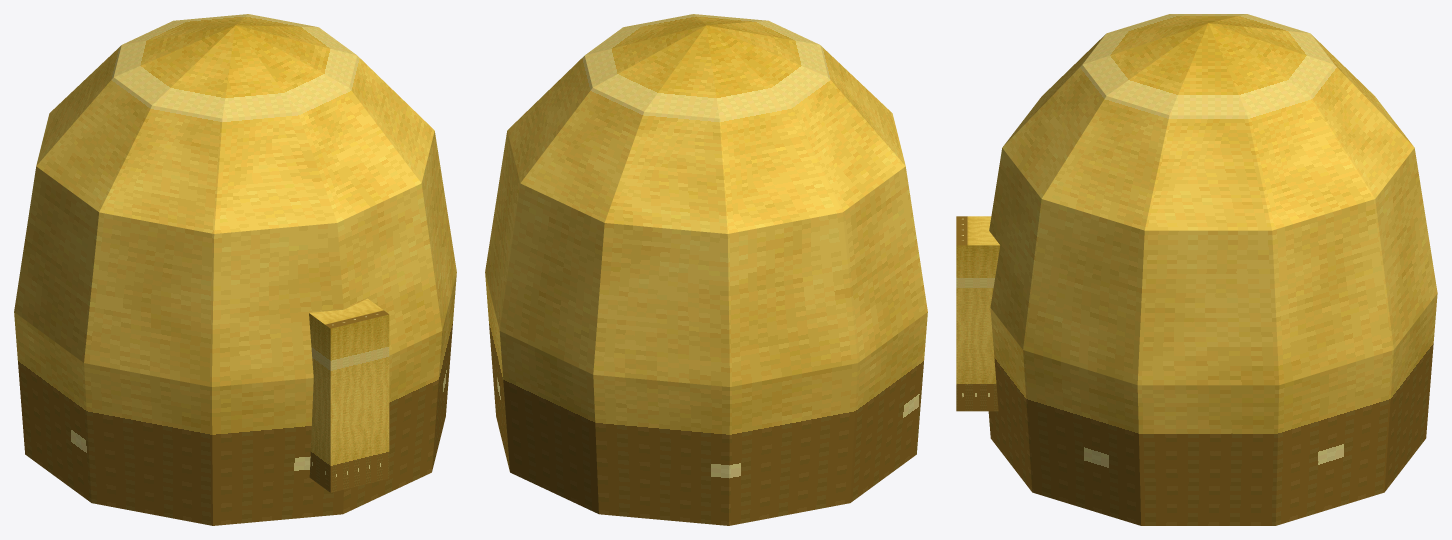
The model's file is capacete_de_ouro.glb.
The picture shows the model from 3 angles, left to right: view 1: azimuth 30°, elevation 25°; view 2: azimuth 150°, elevation 25°; view 3: azimuth 270°, elevation 25°; orthographic projection.
Parts seen in each view (by area): view 1: capacete_de_ouro; view 2: capacete_de_ouro; view 3: capacete_de_ouro.
Part boxes in pixels (box(x1,y1,x2,y2)): capacete_de_ouro: box(14, 14, 456, 525); capacete_de_ouro: box(485, 14, 927, 525); capacete_de_ouro: box(956, 14, 1437, 525).
Bounding box in the file's own units: 0.3804 × 0.4 × 0.42.
Materials: 1 (1 with a texture image).
